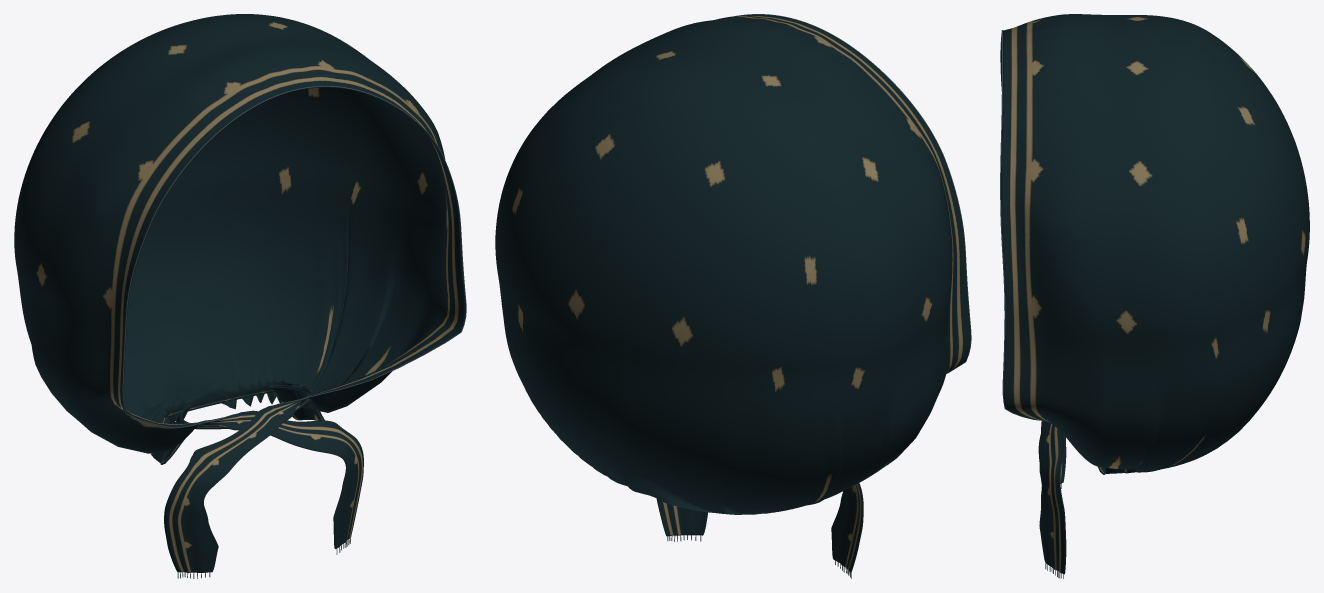
File: Masculine-flow-shirtless-pashmina250-headgear.glb
3 renders of one model, left to right at view 1: azimuth 30°, elevation 25°; view 2: azimuth 150°, elevation 25°; view 3: azimuth 270°, elevation 25°, orthographic. The views are drawn at different scales.
Parts seen in each view (by area): view 1: 226 headgear / Headwear / continuous woven pashmina239, 226 headgear / Headwear / face edge239; view 2: 226 headgear / Headwear / continuous woven pashmina239, 226 headgear / Headwear / face edge239; view 3: 226 headgear / Headwear / continuous woven pashmina239, 226 headgear / Headwear / face edge239.
Boxes of the visible parts, x1,y1,x2,y2 form: 226 headgear / Headwear / continuous woven pashmina239: (14, 14, 465, 572); 226 headgear / Headwear / face edge239: (122, 86, 466, 428); 226 headgear / Headwear / continuous woven pashmina239: (495, 14, 970, 572); 226 headgear / Headwear / face edge239: (735, 14, 971, 373); 226 headgear / Headwear / continuous woven pashmina239: (1001, 14, 1309, 574); 226 headgear / Headwear / face edge239: (1000, 30, 1037, 420).
Size of the model in its own units: 1.1 by 1.4 by 0.7763.
Materials: 3 (1 with a texture image).
